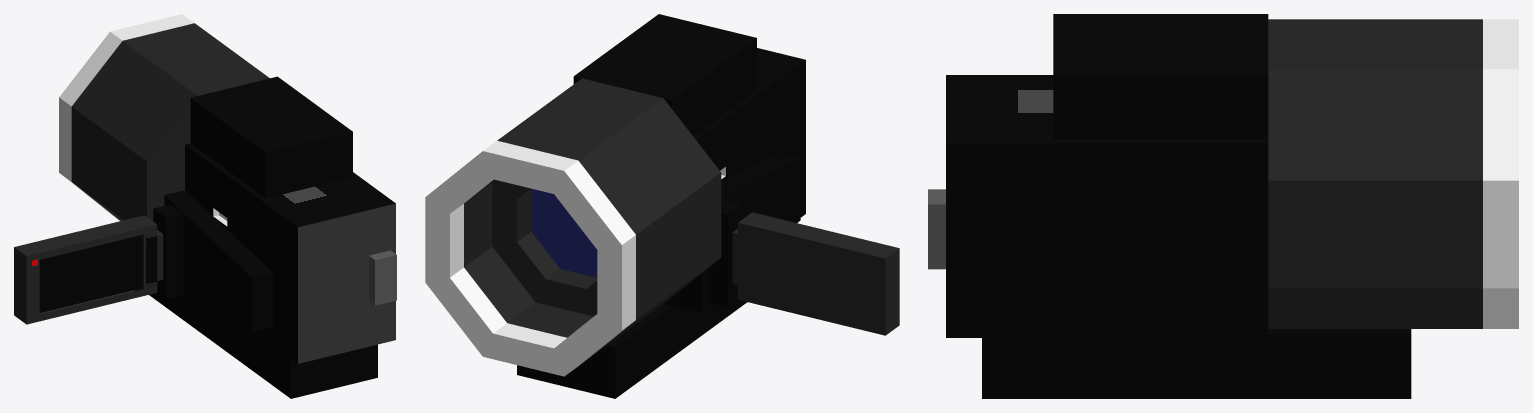
File: camera.glb
The picture shows the model from 3 angles, left to right: view 1: azimuth 30°, elevation 25°; view 2: azimuth 150°, elevation 25°; view 3: azimuth 270°, elevation 25°; orthographic projection. The views are drawn at different scales.
Parts seen in each view (by area): view 1: Object_2; view 2: Object_2; view 3: Object_2.
Boxes of the visible parts, x1,y1,x2,y2 form: Object_2: [14, 14, 396, 398]; Object_2: [425, 14, 899, 398]; Object_2: [928, 14, 1518, 398].
Bounding box in the file's own units: 0.45 × 0.3125 × 0.5156.
Materials: 1 (1 with a texture image).
